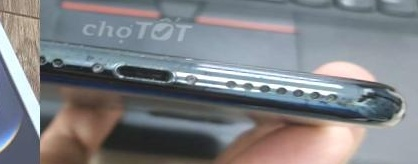scratch: (40, 21, 244, 108)
